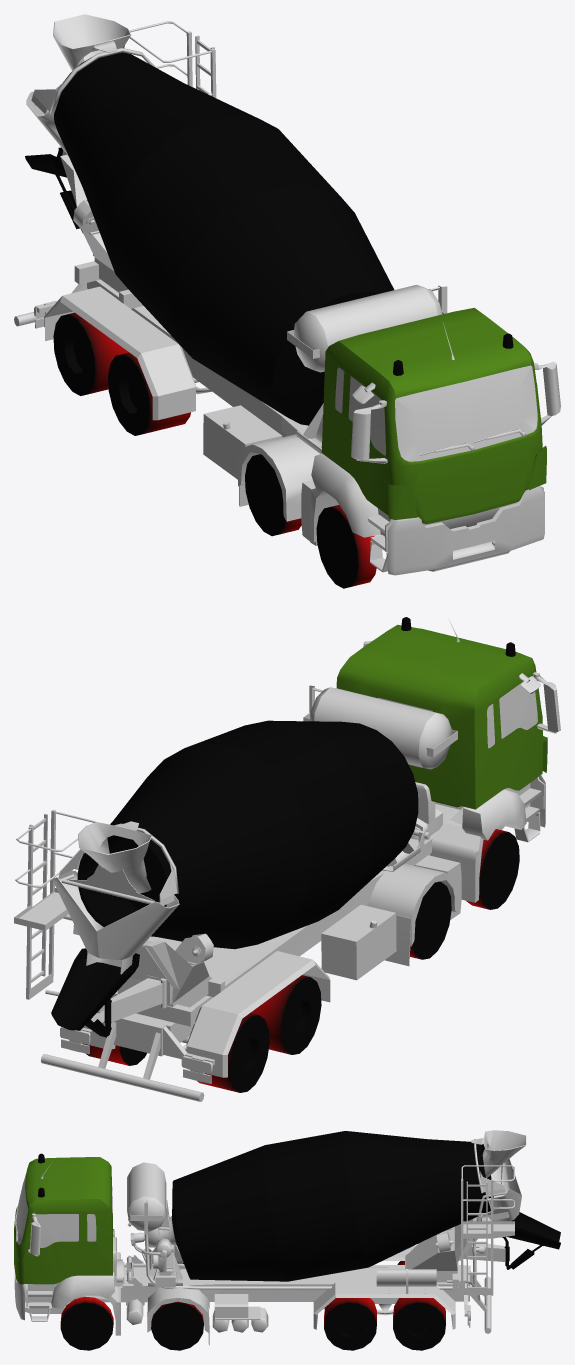
File: Liebherr_HTM904_IOS.fbx
3 renders of one model, top to bottom at view 1: azimuth 30°, elevation 25°; view 2: azimuth 150°, elevation 25°; view 3: azimuth 270°, elevation 25°, orthographic. The views are drawn at different scales.
Parts seen in each view (by area): view 1: body, wheels, windows; view 2: body, wheels, windows; view 3: body, wheels, windows.
Boxes of the visible parts, box(x1,y1,x2,y2) form: body: box(14, 14, 560, 575); wheels: box(53, 312, 376, 588); windows: box(335, 365, 537, 461); body: box(14, 617, 560, 1101); wheels: box(82, 829, 519, 1092); windows: box(378, 682, 537, 748); body: box(14, 1130, 560, 1345); wheels: box(60, 1261, 445, 1350); windows: box(15, 1173, 112, 1247).
Size of the model in its own units: 0.028 by 0.0383 by 0.1004.
